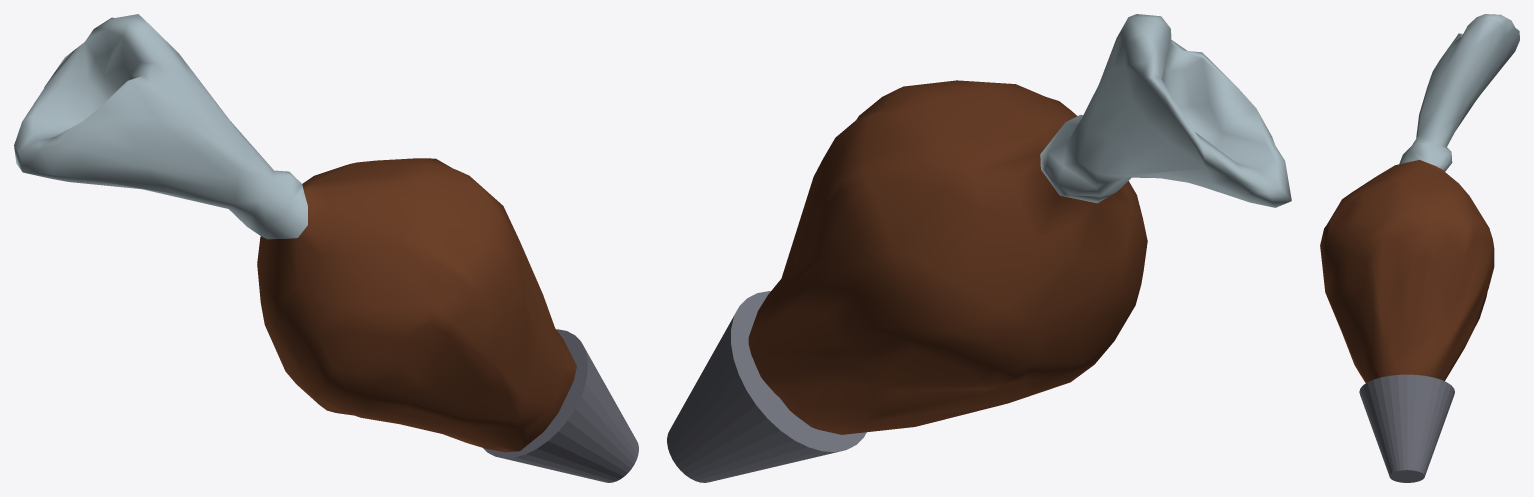
Rendered from chocolate_infill_pickup.fbx.
The picture shows the model from 3 angles, left to right: view 1: azimuth 30°, elevation 25°; view 2: azimuth 150°, elevation 25°; view 3: azimuth 270°, elevation 25°; orthographic projection. The views are drawn at different scales.
Parts seen in each view (by area): view 1: PM3D_Cone3D1; view 2: PM3D_Cone3D1; view 3: PM3D_Cone3D1.
Part boxes in pixels (x1=…): PM3D_Cone3D1: x1=14, y1=14, x2=638, y2=482; PM3D_Cone3D1: x1=667, y1=14, x2=1291, y2=482; PM3D_Cone3D1: x1=1320, y1=14, x2=1519, y2=482.
Bounding box in the file's own units: 146 × 131 × 70.01.
